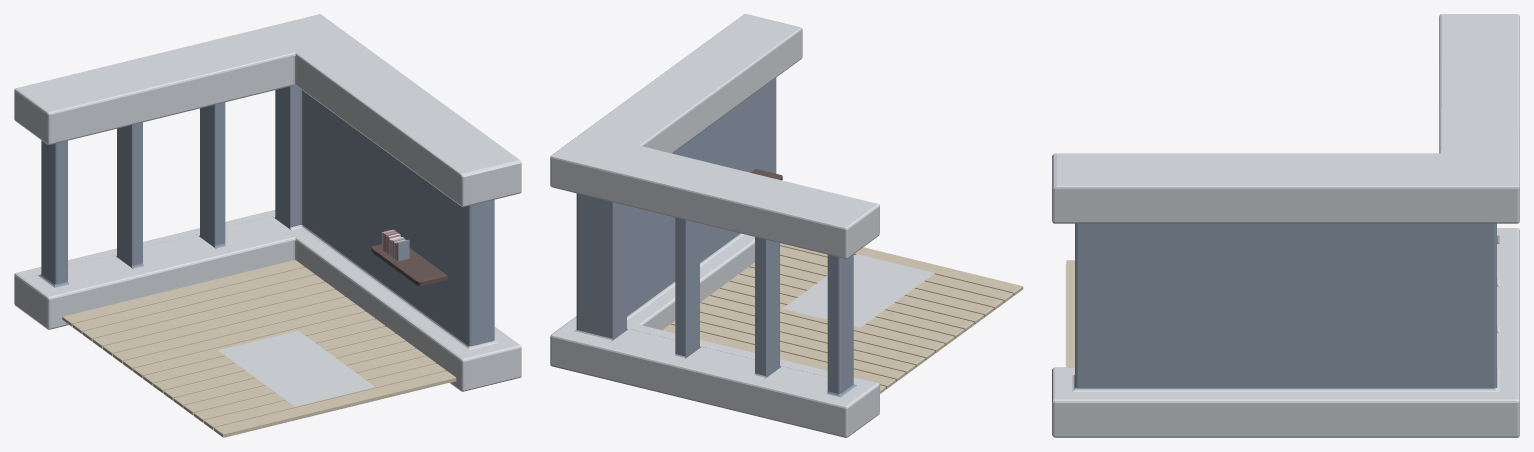
File: base_room.gltf
3 views of the same model, side by side, from view 1: azimuth 30°, elevation 25°; view 2: azimuth 150°, elevation 25°; view 3: azimuth 270°, elevation 25° (orthographic). The views are drawn at different scales.
Parts seen in each view (by area): view 1: Cube.001, Plane.001, Plane.008, Cube.003; view 2: Cube.001, Plane.001, Plane.008; view 3: Cube.001, Plane.001.
Part boxes in pixels (<box>): Cube.001: <box>14,14,521,391</box>; Plane.001: <box>62,260,456,437</box>; Plane.008: <box>218,330,374,406</box>; Cube.003: <box>371,244,447,286</box>; Cube.001: <box>550,14,879,437</box>; Plane.001: <box>662,243,1023,393</box>; Plane.008: <box>782,254,934,327</box>; Cube.001: <box>1052,14,1519,437</box>; Plane.001: <box>1066,260,1074,367</box>.
Size of the model in its own units: 17.44 by 11.8 by 19.86.
